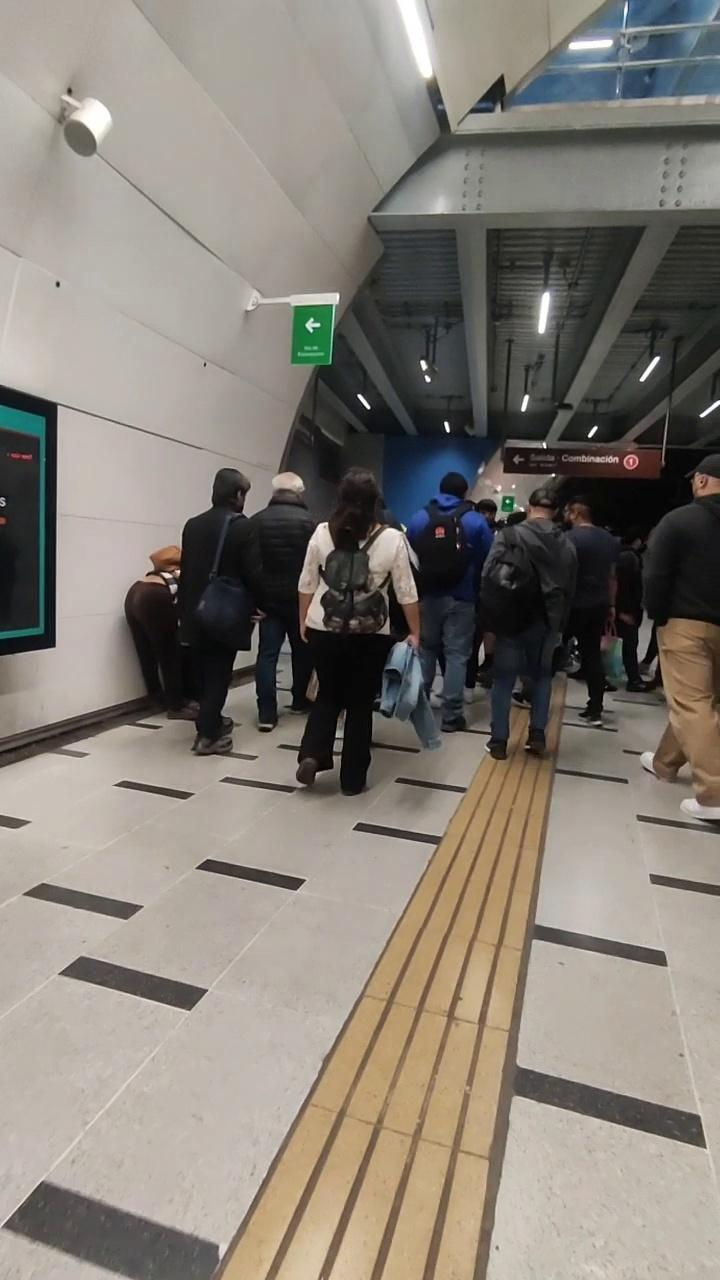left arrow: (504, 450, 528, 472)
